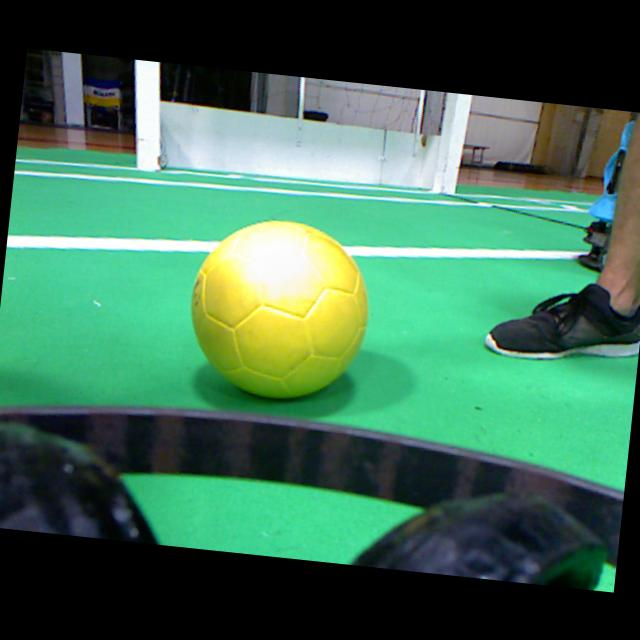ball: (191, 220, 366, 397)
goal: (431, 92, 470, 193), (134, 59, 159, 170)
